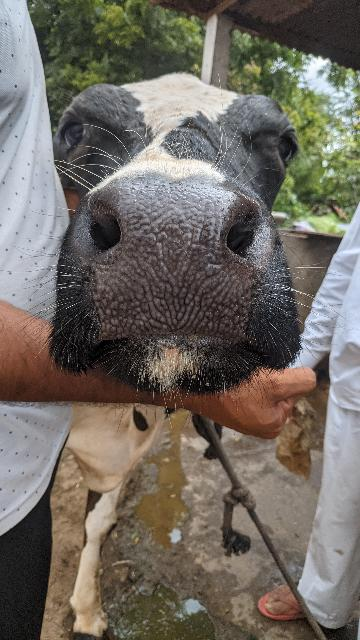Muzzle: (89, 191, 252, 337)
